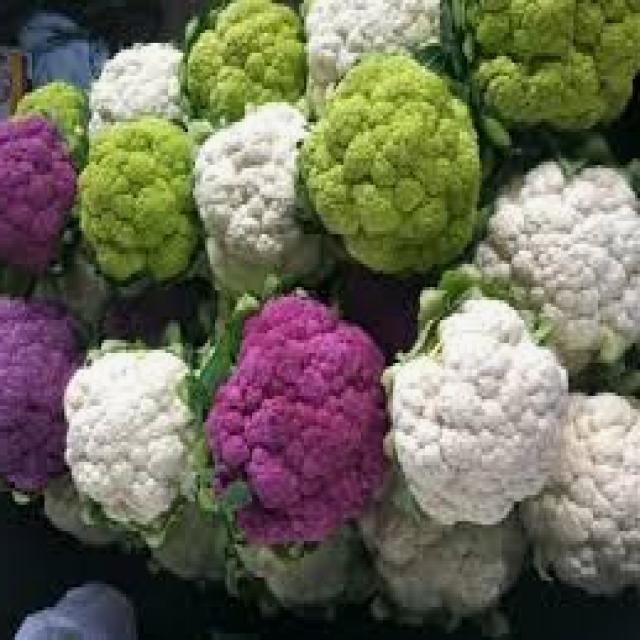ginger: (200, 276, 393, 554), (382, 278, 572, 534), (294, 41, 500, 274), (456, 146, 640, 363), (68, 314, 214, 560), (494, 363, 640, 600), (452, 0, 640, 171), (350, 467, 534, 631), (188, 77, 326, 292), (79, 104, 195, 291), (0, 274, 76, 554), (294, 0, 454, 115), (176, 0, 311, 135), (0, 108, 79, 295), (82, 35, 203, 152), (24, 76, 89, 156)
